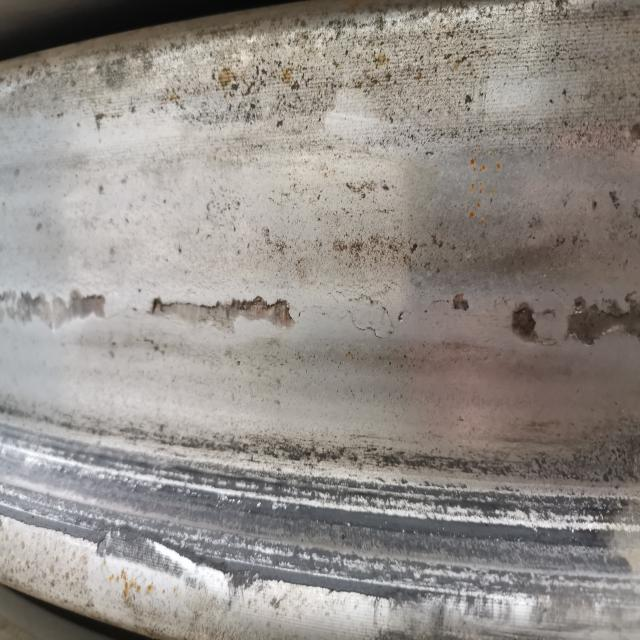Peeling: (149, 299, 294, 332), (3, 292, 107, 323), (567, 297, 640, 341), (510, 300, 559, 346), (453, 293, 474, 311)
